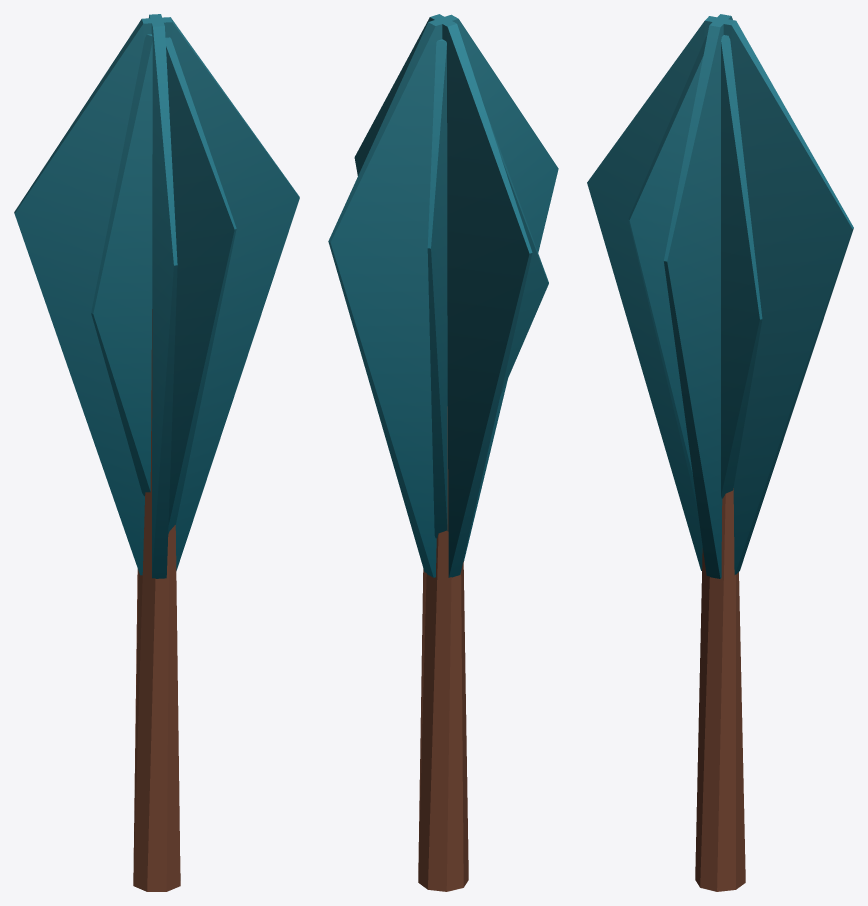
File: Tree_31_gradient_blue_vc.fbx
The picture shows the model from 3 angles, left to right: view 1: azimuth 30°, elevation 25°; view 2: azimuth 150°, elevation 25°; view 3: azimuth 270°, elevation 25°; orthographic projection.
Parts seen in each view (by area): view 1: Tree_31_gradient_blue_vc; view 2: Tree_31_gradient_blue_vc; view 3: Tree_31_gradient_blue_vc.
Boxes of the visible parts, x1=… form: Tree_31_gradient_blue_vc: x1=14, y1=14, x2=299, y2=891; Tree_31_gradient_blue_vc: x1=328, y1=14, x2=558, y2=891; Tree_31_gradient_blue_vc: x1=587, y1=14, x2=853, y2=891.
Size of the model in its own units: 84.61 by 301 by 84.61.
